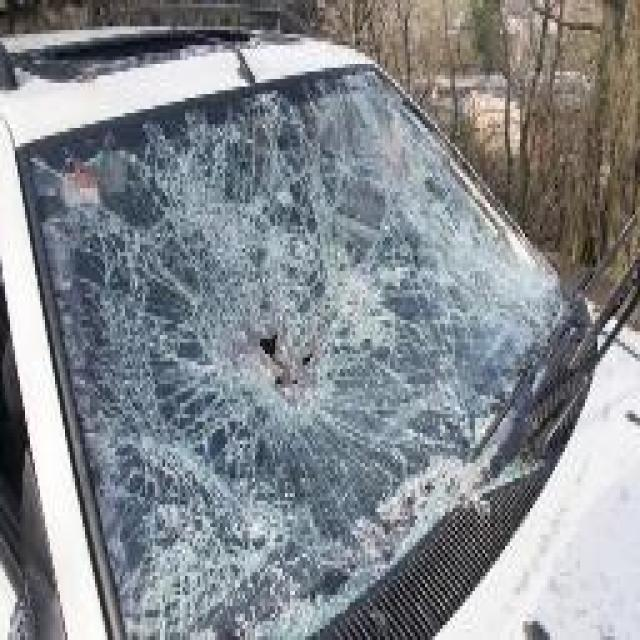Windshield: (5, 60, 640, 614)
